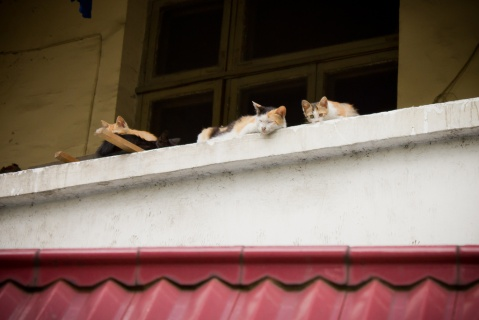Cat: (195, 97, 289, 139), (302, 97, 359, 125), (97, 115, 156, 141)
